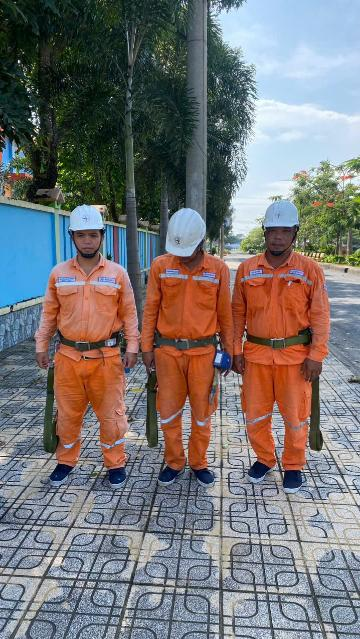harness: (50, 323, 130, 359), (240, 324, 321, 358), (146, 327, 231, 356)
helmet: (157, 202, 216, 261), (57, 202, 110, 238), (265, 195, 306, 235)
shoes: (93, 460, 139, 495), (37, 457, 83, 488), (186, 463, 224, 491), (278, 463, 308, 498), (147, 468, 191, 491), (242, 455, 273, 487)
